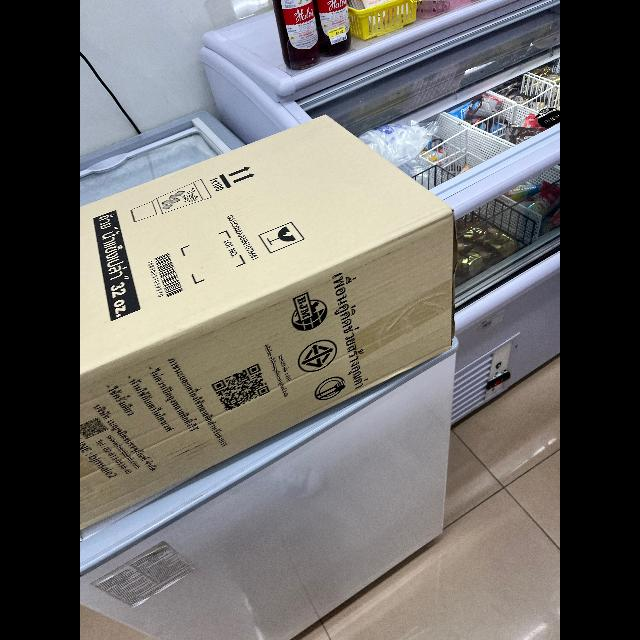cardboard_box: (80, 114, 459, 546)
